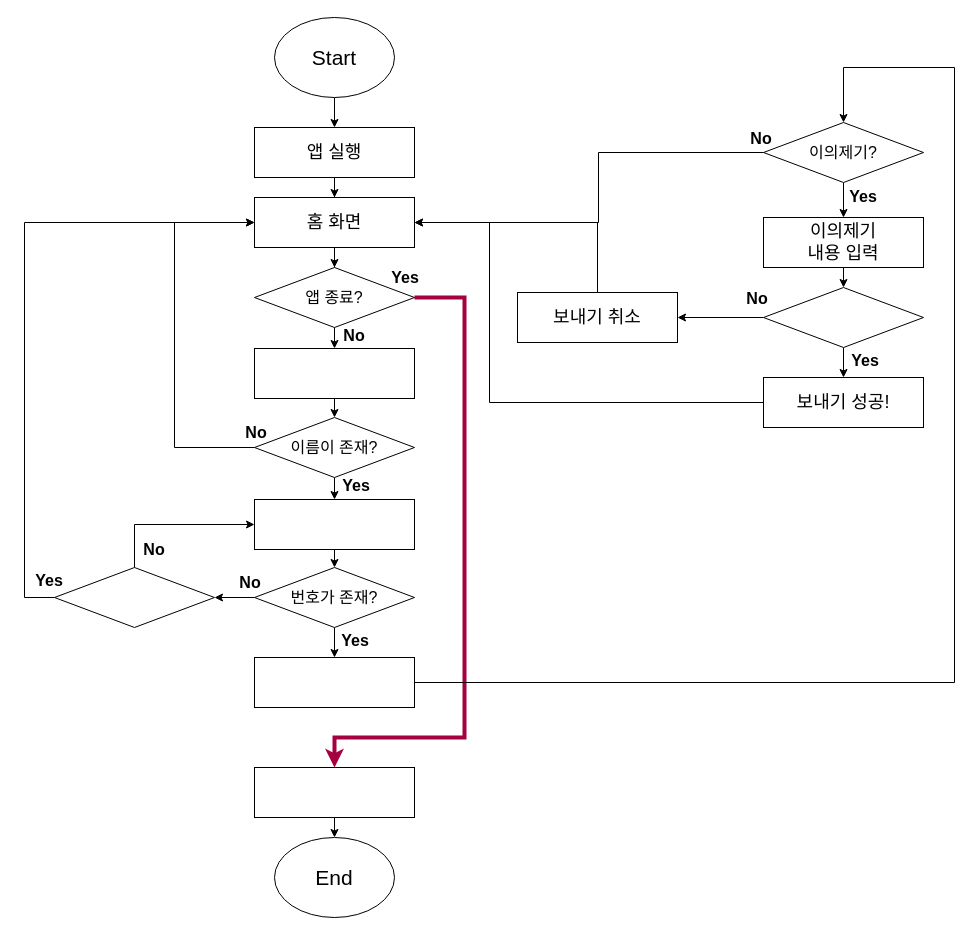
Image size: 980x935. Some labels were removed from this diagram. Each missing label, with the centre of its shape:
3회 이상 입력 오류?: point (134, 597)
개인 사원번호 입력: point (334, 524)
급여 계산 결과 출력: point (334, 682)
보내기?: point (843, 317)
앱 종료: point (334, 792)
이름 입력: point (334, 373)
